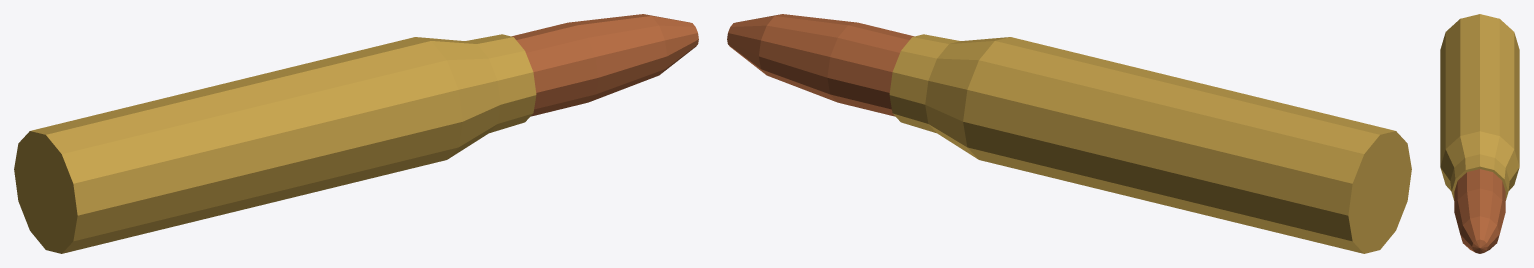
The model's file is naboj.glb.
3 renders of one model, left to right at view 1: azimuth 30°, elevation 25°; view 2: azimuth 150°, elevation 25°; view 3: azimuth 270°, elevation 25°, orthographic. The views are drawn at different scales.
Visible parts, largest first — view 1: naboj; view 2: naboj; view 3: naboj.
Boxes of the visible parts, box(x1,y1,x2,y2) form: naboj: box(14, 14, 698, 253); naboj: box(727, 14, 1411, 253); naboj: box(1440, 14, 1519, 253).
Bounding box in the file's own units: 0.071 × 0.012 × 0.012.
1 material, 1 textured.
